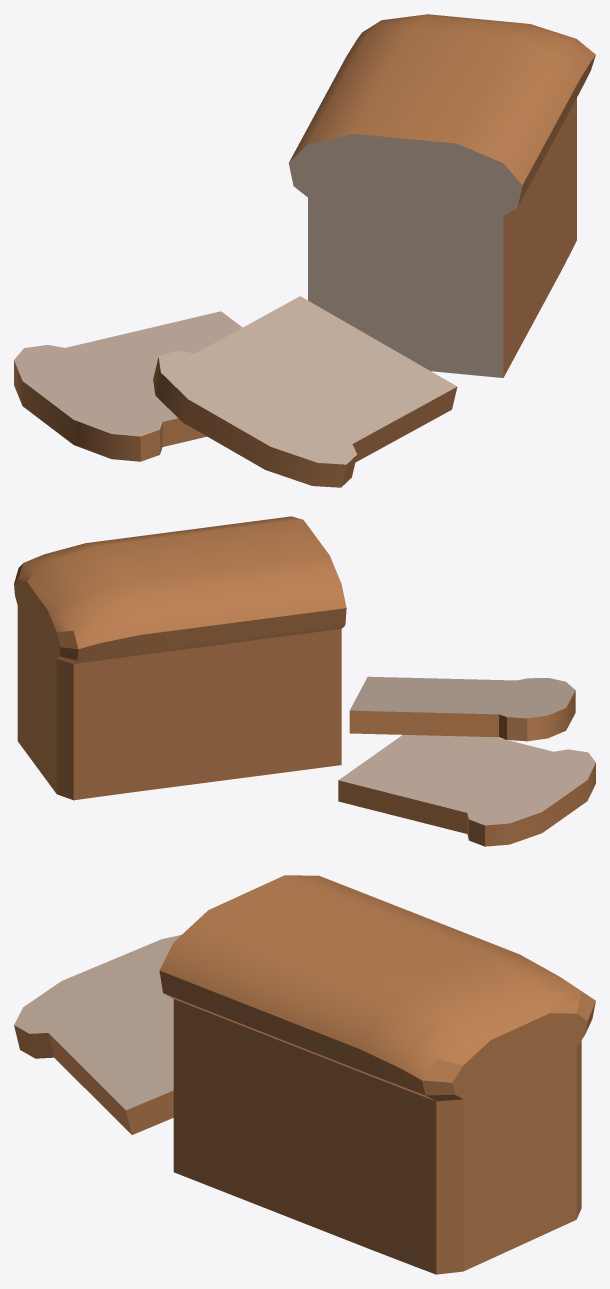
File: Bread.fbx
The picture shows the model from 3 angles, top to bottom: view 1: azimuth 30°, elevation 25°; view 2: azimuth 150°, elevation 25°; view 3: azimuth 270°, elevation 25°; orthographic projection. The views are drawn at different scales.
Visible parts, largest first — view 1: Bread; view 2: Bread; view 3: Bread.
Part boxes in pixels (x1,y1,x2,y2): Bread: [14, 14, 595, 487]; Bread: [14, 516, 595, 846]; Bread: [14, 875, 595, 1274].
Size of the model in its own units: 8.23 by 3.02 by 6.46.
